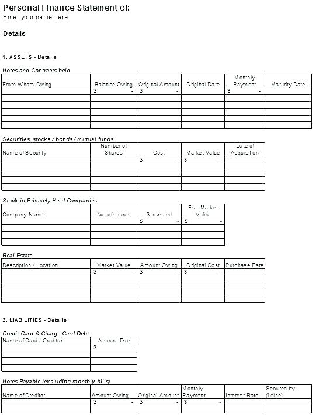textbox: (1, 86, 92, 96), (1, 92, 92, 102), (1, 99, 92, 109), (1, 106, 92, 116), (1, 113, 92, 123), (1, 120, 92, 130), (1, 154, 92, 164), (1, 161, 92, 171), (1, 167, 92, 177), (1, 174, 92, 184), (1, 181, 92, 191), (1, 216, 92, 226), (1, 222, 92, 232), (1, 229, 92, 239), (1, 236, 92, 246), (1, 266, 92, 276), (1, 273, 92, 283), (1, 280, 92, 290), (1, 287, 92, 297), (1, 294, 92, 304), (1, 342, 92, 352), (1, 349, 92, 359), (1, 355, 92, 365), (1, 362, 92, 372), (1, 397, 92, 407), (1, 403, 92, 413), (263, 111, 313, 123), (262, 118, 312, 130), (263, 85, 313, 96), (263, 92, 313, 103), (263, 98, 313, 109), (263, 105, 313, 116), (135, 106, 183, 117), (135, 99, 183, 110), (135, 85, 183, 96), (135, 154, 183, 165), (135, 160, 183, 171), (135, 167, 183, 178), (134, 174, 182, 185), (135, 215, 183, 226), (135, 236, 183, 247), (134, 273, 182, 284), (134, 280, 182, 291), (135, 286, 183, 297), (135, 293, 183, 304), (179, 85, 226, 96), (179, 92, 226, 103), (179, 99, 226, 110), (179, 119, 226, 130), (179, 160, 226, 171), (179, 167, 226, 178), (179, 215, 226, 226), (179, 222, 226, 233), (223, 160, 266, 172), (222, 174, 265, 186), (223, 272, 266, 284), (223, 279, 266, 291), (223, 293, 266, 305), (88, 92, 139, 102), (88, 99, 139, 109), (88, 107, 139, 117), (88, 113, 139, 123), (88, 120, 139, 130), (88, 154, 139, 164), (88, 167, 139, 177), (88, 181, 139, 191), (88, 216, 139, 226), (88, 222, 139, 232), (88, 229, 139, 239), (88, 267, 139, 277), (88, 273, 139, 283), (88, 348, 139, 358), (88, 396, 139, 406), (180, 154, 226, 165), (179, 229, 225, 240), (88, 86, 138, 96), (88, 161, 138, 171), (88, 175, 138, 185), (88, 236, 138, 246), (88, 280, 138, 290), (88, 287, 138, 297), (88, 293, 138, 303), (88, 341, 138, 351), (88, 355, 138, 365), (88, 362, 138, 372), (88, 403, 138, 413), (263, 396, 313, 406), (263, 403, 313, 413), (134, 120, 182, 130), (135, 113, 183, 123), (135, 92, 183, 102), (135, 181, 183, 191), (135, 222, 183, 232), (135, 229, 183, 239), (135, 397, 183, 407), (135, 267, 183, 277), (222, 119, 265, 130), (223, 113, 266, 124), (222, 106, 265, 117), (222, 99, 265, 110), (223, 92, 266, 103), (223, 85, 266, 96), (222, 154, 265, 165), (222, 167, 265, 178), (222, 181, 265, 192), (223, 266, 266, 277), (223, 287, 266, 298), (222, 396, 265, 407), (222, 403, 265, 414), (179, 99, 226, 109), (179, 106, 226, 116), (179, 113, 226, 123), (178, 181, 225, 191), (179, 397, 225, 407), (180, 266, 226, 276), (178, 402, 224, 412), (179, 274, 225, 284), (179, 280, 225, 290), (180, 287, 226, 297), (179, 293, 225, 303), (179, 174, 225, 184), (179, 236, 225, 246), (134, 403, 183, 412)
